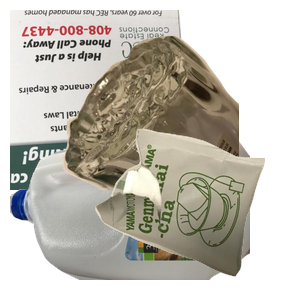glass: (60, 33, 300, 213)
paper: (10, 10, 201, 190)
plastic: (10, 120, 250, 300)
trash: (93, 126, 300, 300)
